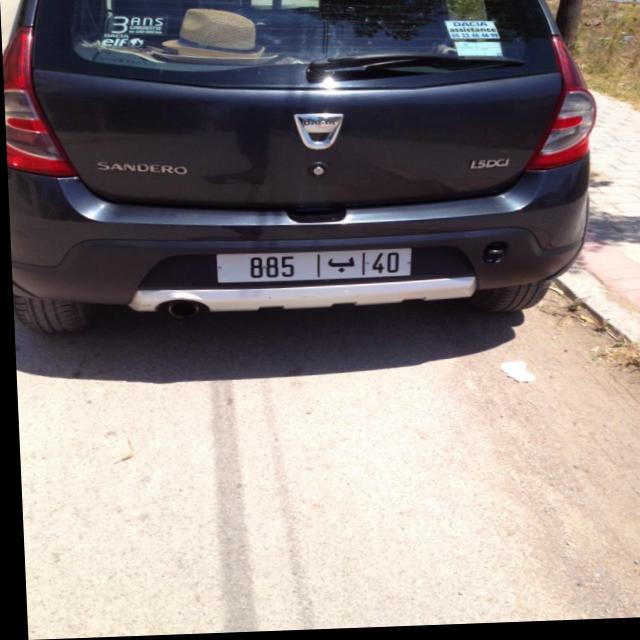License-Plate: (214, 251, 410, 285)
